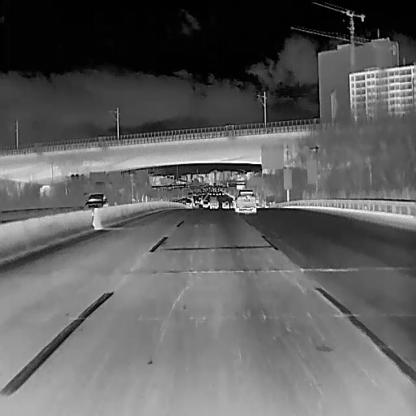car: (234, 188, 255, 212), (84, 193, 108, 208), (221, 200, 228, 208), (203, 200, 208, 207)
truck: (208, 195, 218, 207)
